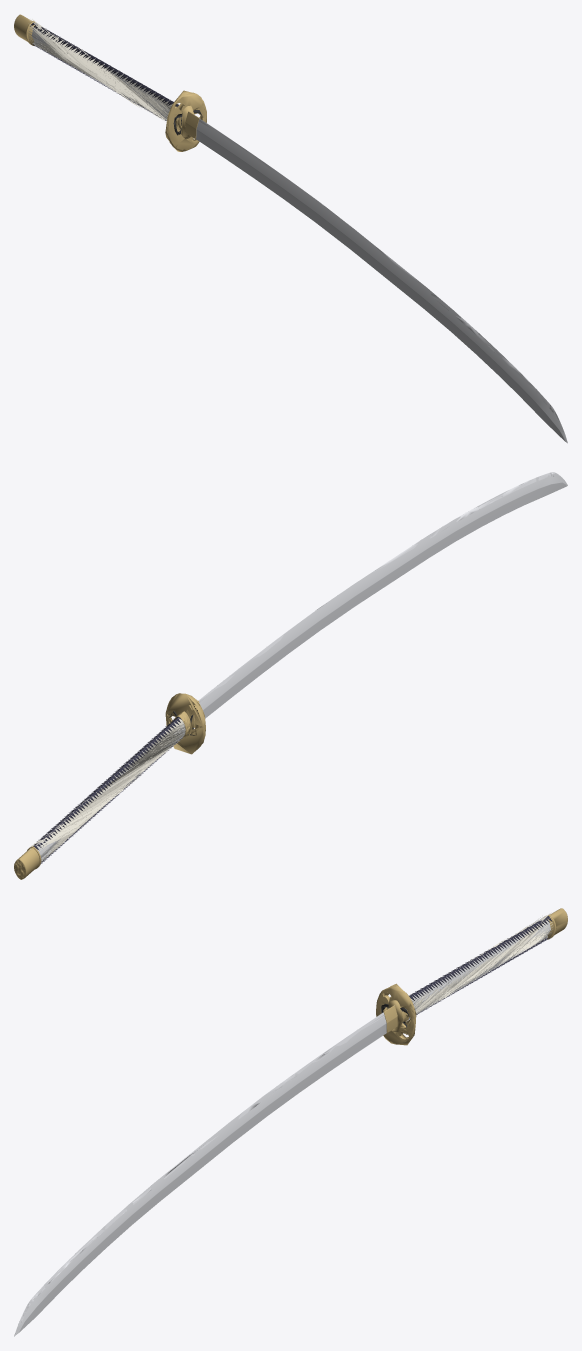
File: odachi.glb
3 views of the same model, one above another, from view 1: azimuth 30°, elevation 25°; view 2: azimuth 150°, elevation 25°; view 3: azimuth 330°, elevation 25° (orthographic).
Visible parts, largest first — view 1: odachi; view 2: odachi; view 3: odachi.
Boxes of the visible parts, left/top/right/bottom form: odachi: left=14, top=14, right=567, bottom=443; odachi: left=14, top=472, right=567, bottom=879; odachi: left=14, top=908, right=567, bottom=1336.
Bounding box in the file's own units: 0.0747 × 0.1273 × 1.75.
